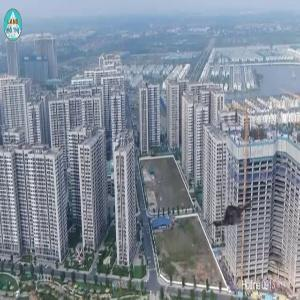drone: (202, 188, 265, 251)
